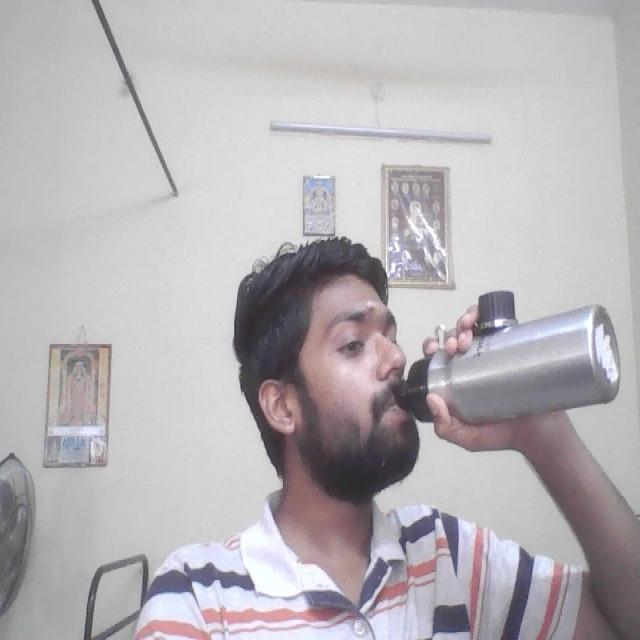Drinking: (393, 283, 625, 430)
